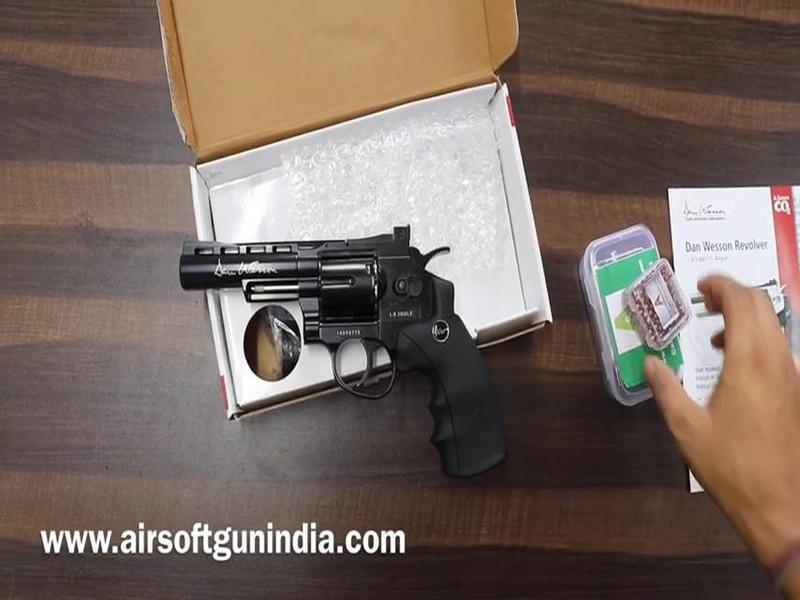Revolver: (174, 208, 489, 422)
